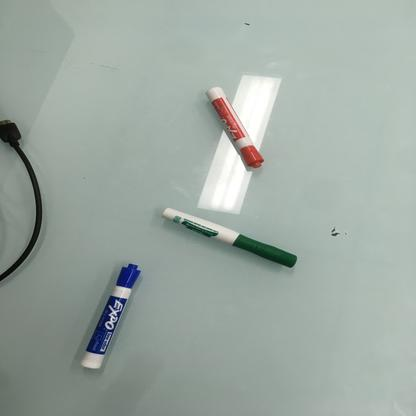expo_marker: (153, 202, 309, 275), (74, 261, 145, 382), (199, 81, 269, 180)
